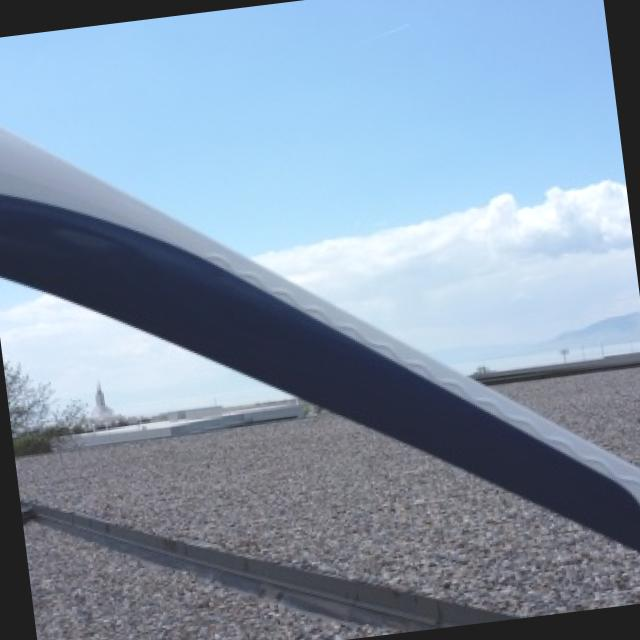healthy: (0, 127, 640, 552), (0, 277, 282, 413)
